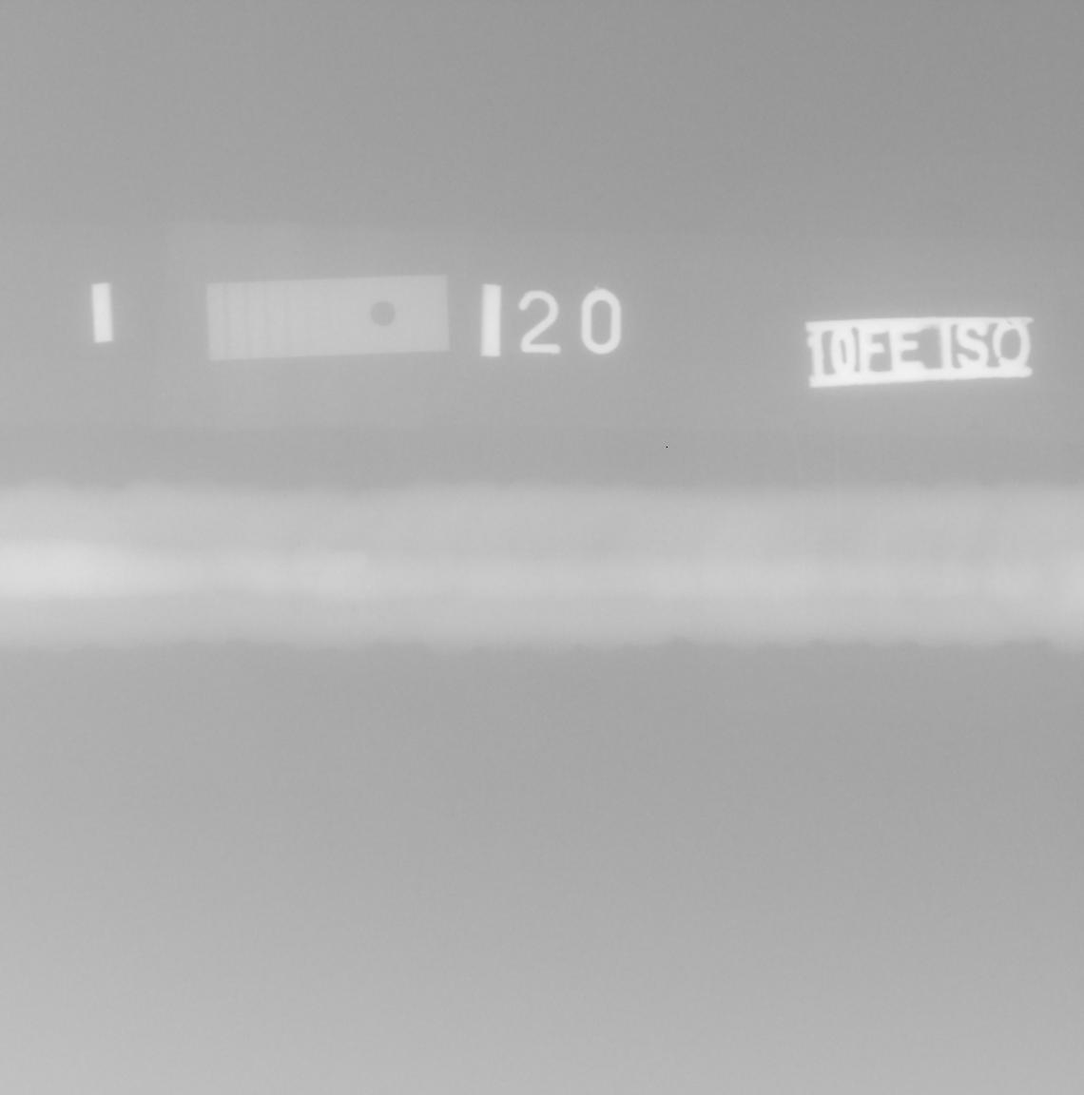Inclusion: (305, 574, 321, 576)
Pore/Porosity: (352, 607, 355, 611)
Reference Standard 1: (207, 273, 450, 361)
